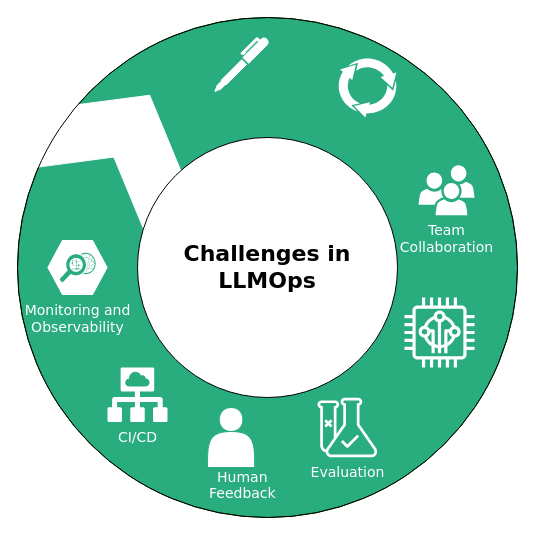
Image size: 535x535. Some labels were removed from this diagram. Here are the shapes that lost their labels. From the top down, the centre of each, then its label:
At point (241, 64): "Prompt Management".
At point (367, 87): "Versioning".
At point (439, 332): "Debugging".
